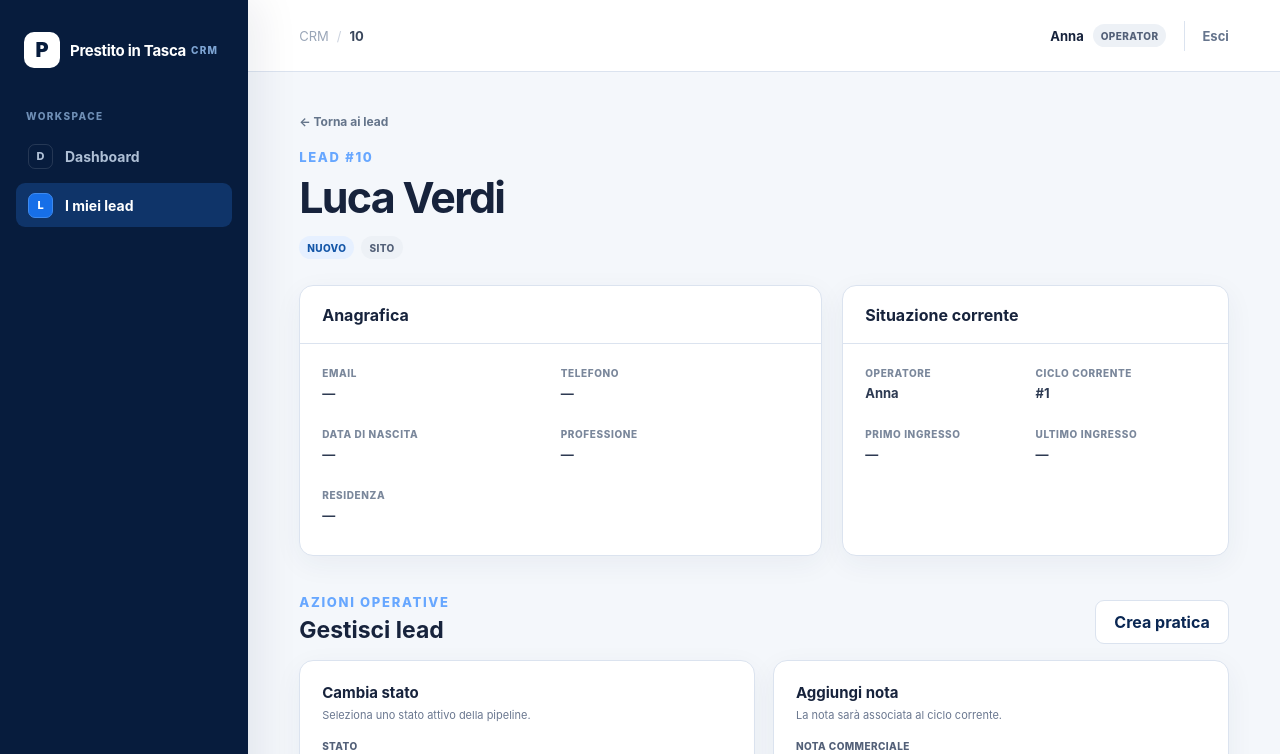
Scenario: autenticazione applicazione › consente all’Operator assegnato di creare la pratica del ciclo corrente
Click the button "Crea pratica" at x=1162, y=622, box [1095, 600, 1229, 644]
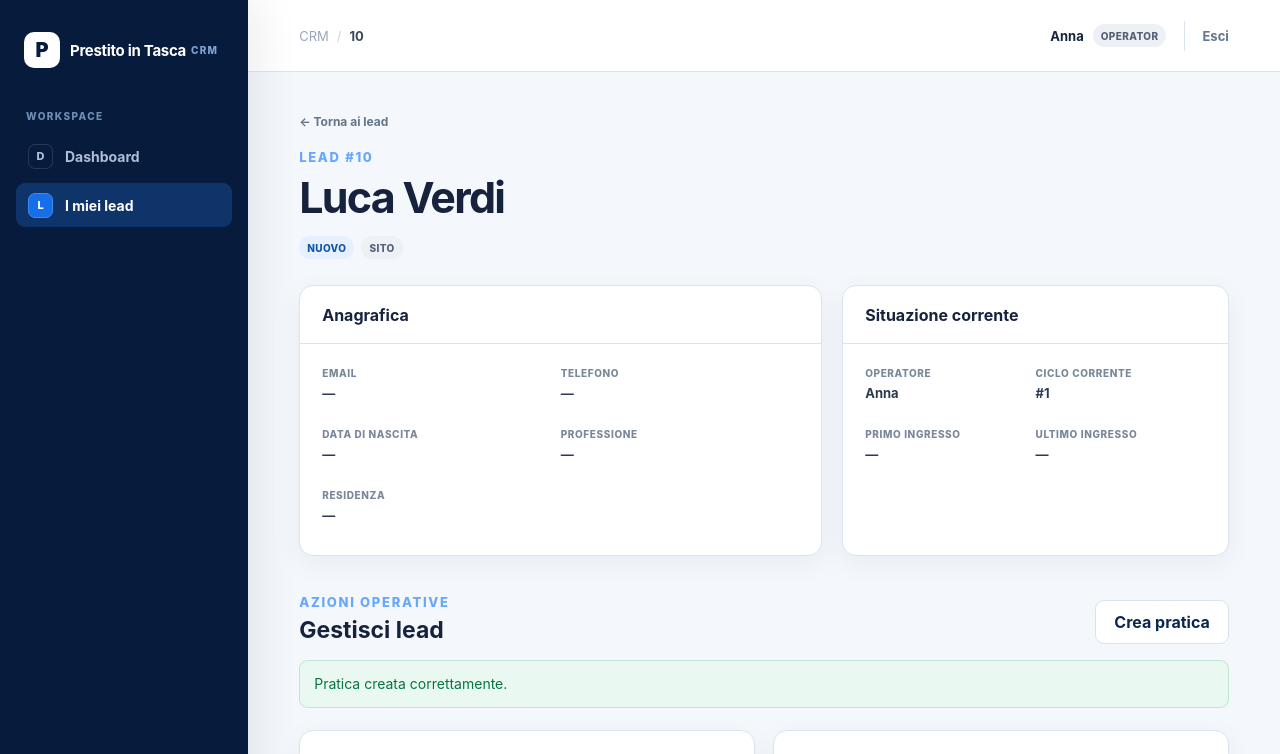
Check: the text "Pratica creata correttamente." is shown, box [299, 660, 1229, 708]
